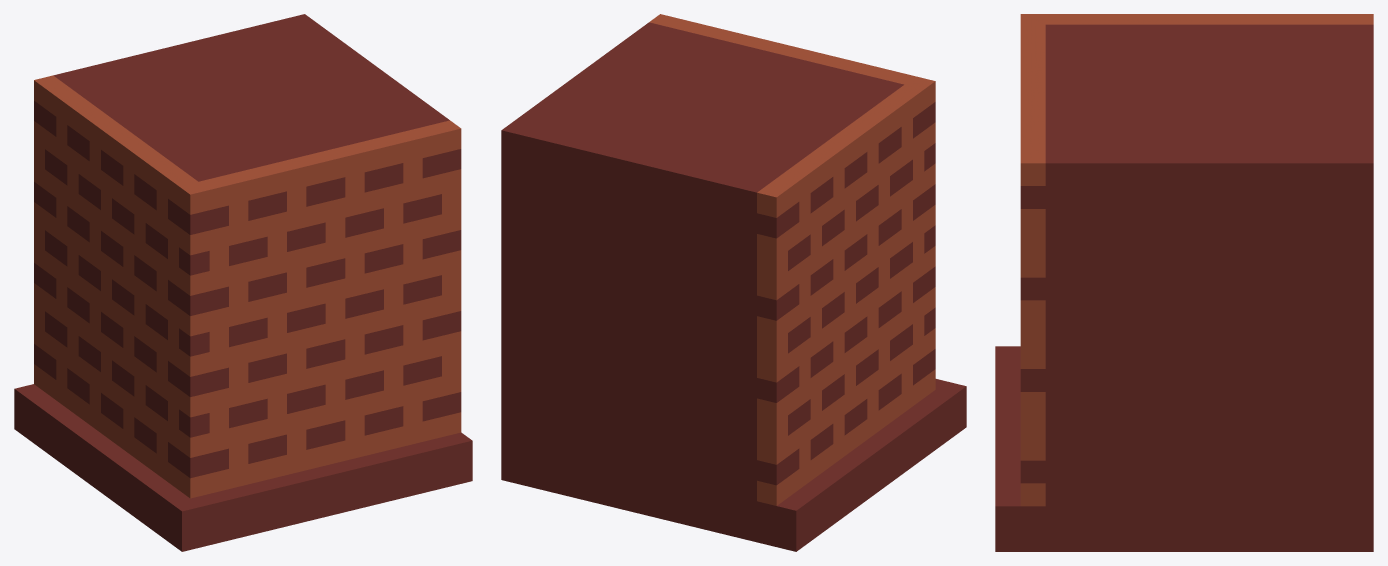
Rendered from dungeon_b_b_outer_wall_corner_b.obj.
3 views of the same model, side by side, from view 1: azimuth 30°, elevation 25°; view 2: azimuth 150°, elevation 25°; view 3: azimuth 270°, elevation 25° (orthographic). The views are drawn at different scales.
Size of the model in its own units: 1.5 by 1.7 by 1.5.
Materials: 1 (1 with a texture image).
